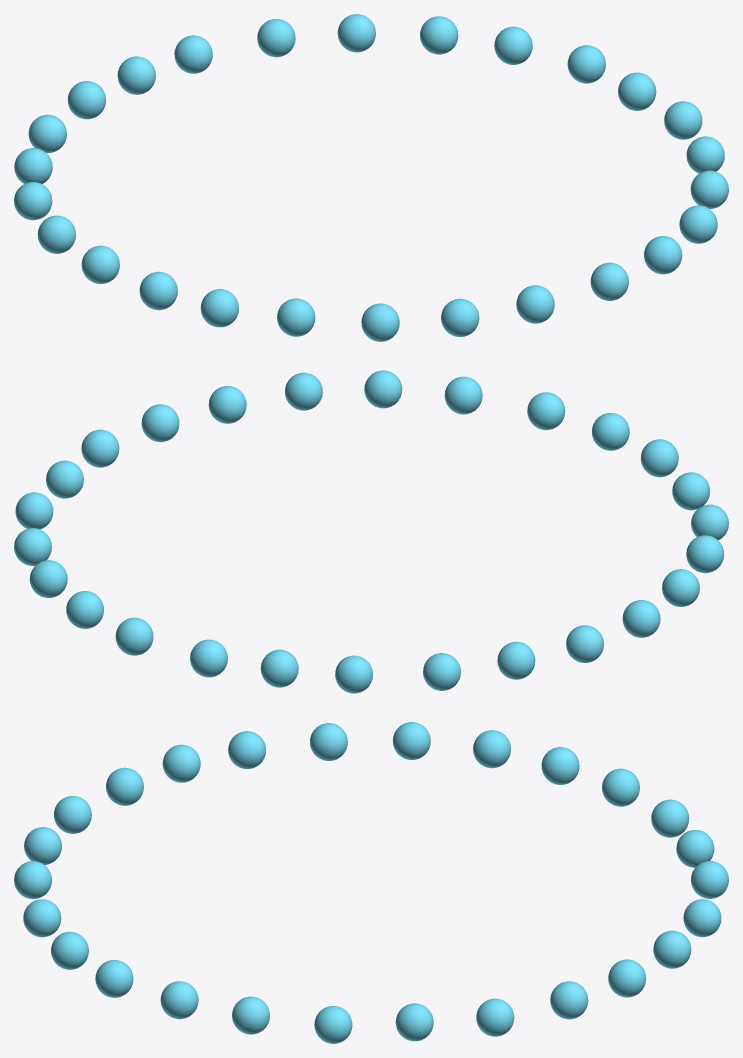
The picture shows the model from 3 angles, top to bottom: view 1: azimuth 30°, elevation 25°; view 2: azimuth 150°, elevation 25°; view 3: azimuth 270°, elevation 25°; orthographic projection.
Parts seen in each view (by area): view 1: Sphere049; view 2: Sphere049; view 3: Sphere049.
Boxes of the visible parts, x1=… form: Sphere049: x1=14, y1=14, x2=728, y2=341; Sphere049: x1=14, y1=370, x2=728, y2=693; Sphere049: x1=14, y1=722, x2=728, y2=1043.
Size of the model in its own units: 153 by 8.22 by 154.
